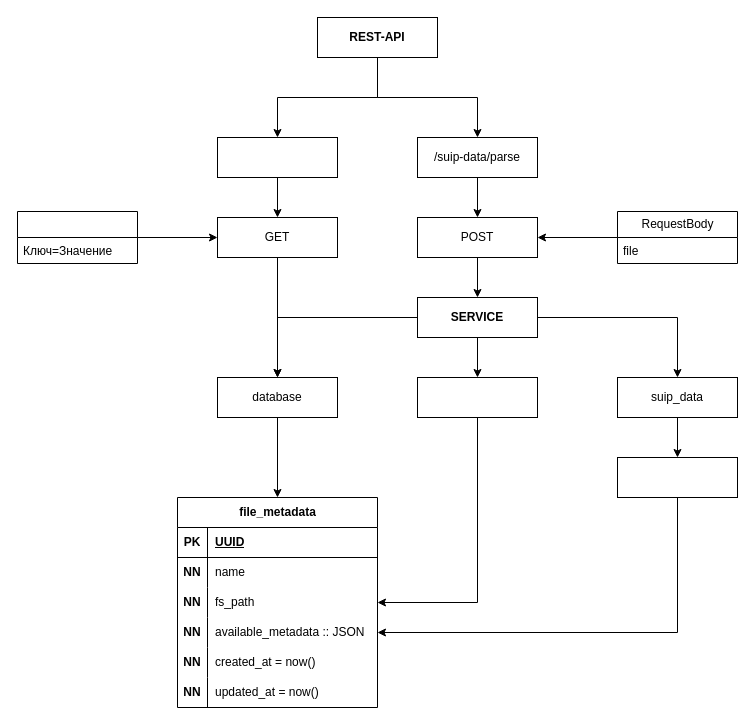
The diagram is 755 pixels wide and 725 high, and some of its shapes have lost their labels. Each missing label, with the box of its shape:
/suip-data: (216, 136, 338, 178)
RequestQuery: (16, 210, 138, 264)
storage: (416, 376, 538, 418)
SUIP.BIZ: (616, 456, 738, 498)
